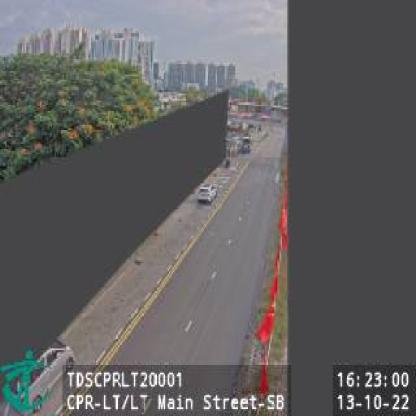Car: (13, 338, 78, 413), (197, 182, 217, 202)
